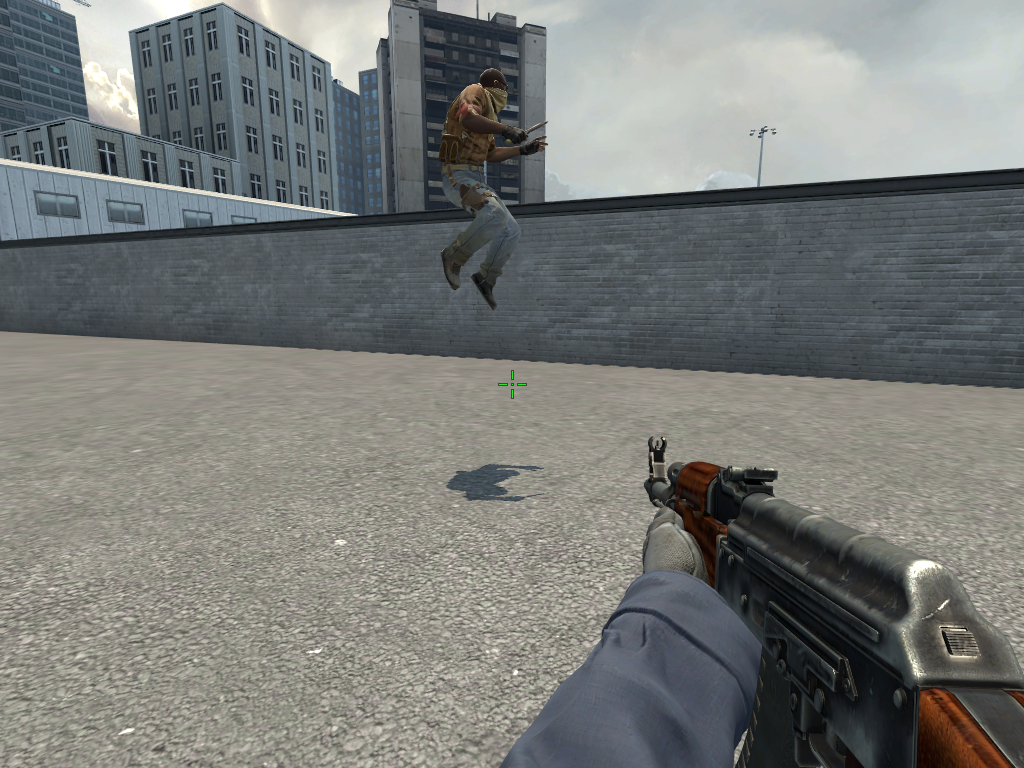tr head: (476, 66, 515, 115)
